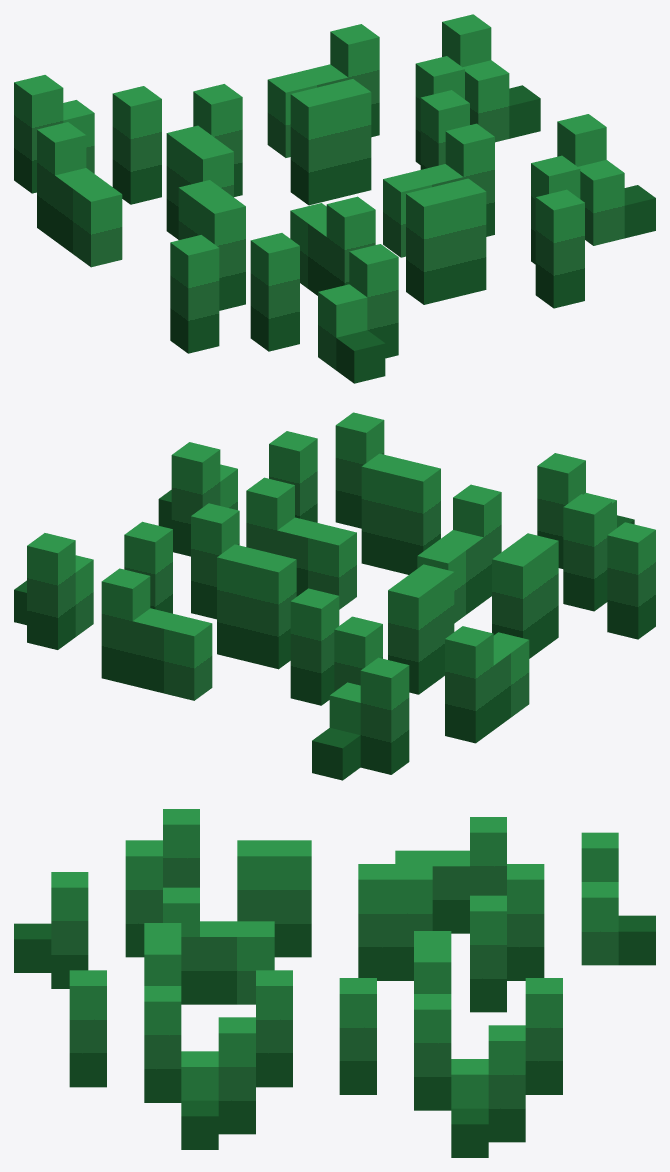
Rendered from Grass.fbx.
The picture shows the model from 3 angles, top to bottom: view 1: azimuth 30°, elevation 25°; view 2: azimuth 150°, elevation 25°; view 3: azimuth 270°, elevation 25°; orthographic projection. The views are drawn at different scales.
Visible parts, largest first — view 1: cube_8, cube_16, cube_25, cube_7, cube_17, cube_1, cube_28, cube, cube_24, cube_4, cube_29, cube_26 (+19 smaller); view 2: cube_8, cube_16, cube, cube_24, cube_9, cube_29, cube_1, cube_13, cube_26, cube_27, cube_7, cube_19 (+16 smaller); view 3: cube_24, cube, cube_3, cube_13, cube_17, cube_20, cube_10, cube_11, cube_12, cube_23, cube_28, cube_18 (+17 smaller).
Boxes of the visible parts, left/top/right/bottom form: cube_8: left=290, top=79, right=371, bottom=205; cube_16: left=406, top=178, right=486, bottom=304; cube_25: left=55, top=168, right=122, bottom=267; cube_7: left=250, top=233, right=299, bottom=351; cube_17: left=535, top=189, right=584, bottom=308; cube_1: left=170, top=235, right=219, bottom=353; cube_28: left=112, top=86, right=161, bottom=204; cube: left=178, top=180, right=245, bottom=310; cube_24: left=166, top=125, right=233, bottom=239; cube_4: left=349, top=244, right=398, bottom=358; cube_29: left=14, top=75, right=63, bottom=193; cube_26: left=37, top=122, right=86, bottom=240; cube_8: left=217, top=544, right=296, bottom=669; cube_16: left=361, top=453, right=440, bottom=574; cube: left=492, top=533, right=558, bottom=658; cube_24: left=388, top=564, right=454, bottom=694; cube_9: left=132, top=608, right=212, bottom=700; cube_29: left=360, top=657, right=409, bottom=774; cube_1: left=607, top=522, right=655, bottom=639; cube_13: left=27, top=533, right=75, bottom=649; cube_26: left=445, top=626, right=493, bottom=743; cube_27: left=290, top=588, right=339, bottom=705; cube_7: left=563, top=494, right=611, bottom=611; cube_19: left=277, top=517, right=356, bottom=609; cube_24: left=358, top=864, right=432, bottom=980; cube: left=237, top=840, right=311, bottom=957; cube_3: left=200, top=921, right=274, bottom=1004; cube_13: left=488, top=1025, right=525, bottom=1142; cube_17: left=69, top=970, right=106, bottom=1087; cube_20: left=218, top=1017, right=255, bottom=1134; cube_10: left=525, top=978, right=562, bottom=1094; cube_11: left=339, top=978, right=376, bottom=1094; cube_12: left=414, top=994, right=451, bottom=1110; cube_23: left=144, top=986, right=181, bottom=1102; cube_28: left=507, top=864, right=544, bottom=980; cube_18: left=256, top=970, right=292, bottom=1087.
Size of the model in its own units: 98.44 by 18.75 by 108.
Materials: 1 (1 with a texture image).
